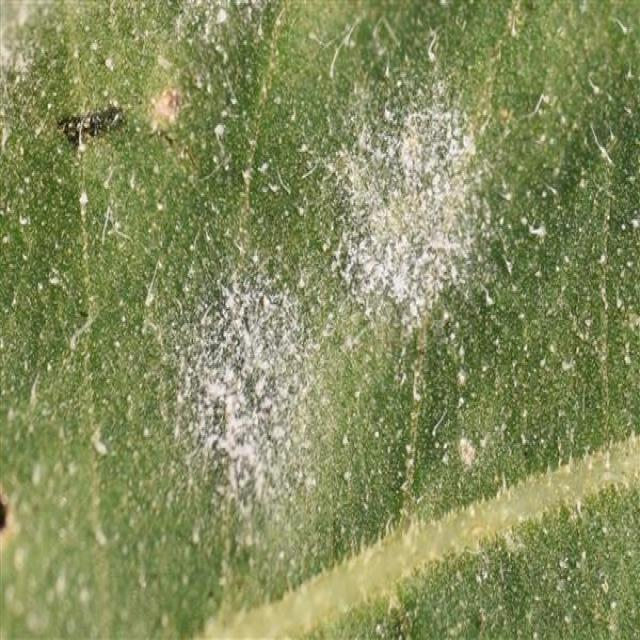Powdery Mildew: (142, 254, 639, 638), (325, 80, 495, 338)
